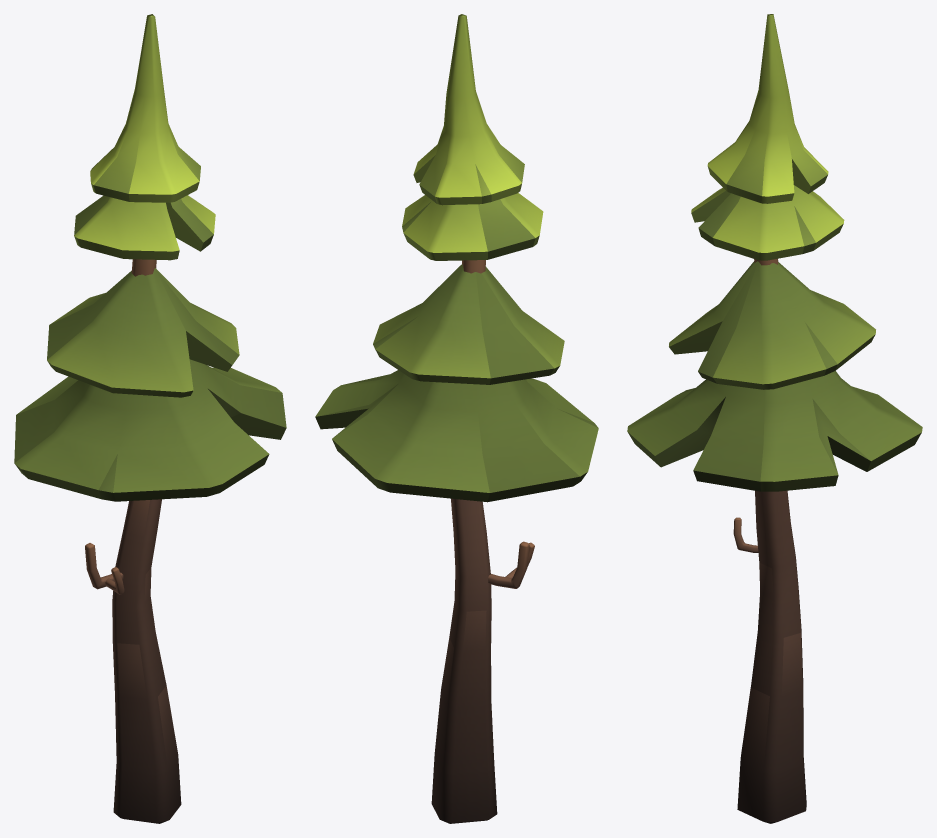
Rendered from pine_tree_col1_02.fbx.
The picture shows the model from 3 angles, left to right: view 1: azimuth 30°, elevation 25°; view 2: azimuth 150°, elevation 25°; view 3: azimuth 270°, elevation 25°; orthographic projection.
Visible parts, largest first — view 1: pine_tree_col1_02; view 2: pine_tree_col1_02; view 3: pine_tree_col1_02.
Part boxes in pixels (x1,y1,x2,y2): pine_tree_col1_02: [14, 14, 286, 823]; pine_tree_col1_02: [315, 14, 598, 823]; pine_tree_col1_02: [627, 14, 922, 823].
Bounding box in the file's own units: 478 × 1429 × 479.
Materials: 1 (1 with a texture image).
